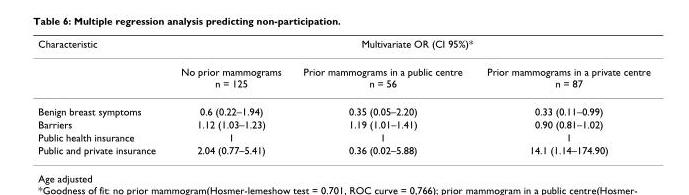table: (37, 37, 649, 155)
table column: (291, 37, 474, 155), (474, 37, 649, 155), (37, 37, 167, 155), (167, 37, 291, 155)
table column header: (37, 37, 649, 97)
table row: (37, 57, 649, 97), (37, 37, 649, 57), (37, 97, 649, 117), (37, 117, 649, 130), (37, 130, 649, 143), (37, 143, 649, 155)
table spanning cell: (167, 37, 649, 57), (37, 37, 167, 97)
